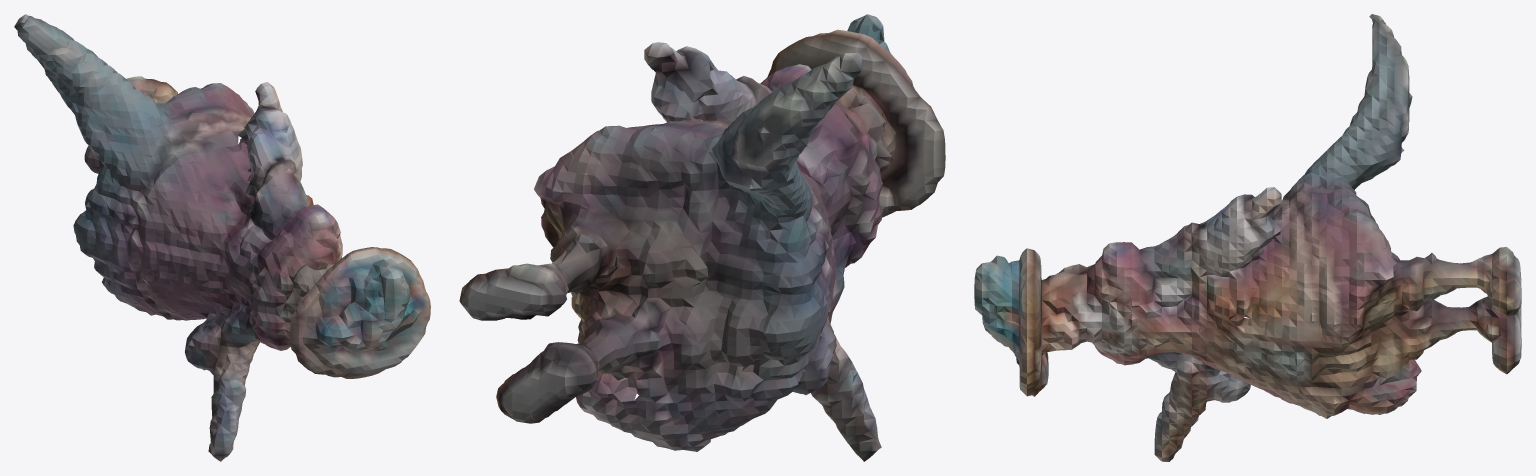
The model's file is renais_scholar_f_0.glb.
3 renders of one model, left to right at view 1: azimuth 30°, elevation 25°; view 2: azimuth 150°, elevation 25°; view 3: azimuth 270°, elevation 25°, orthographic. The views are drawn at different scales.
Parts seen in each view (by area): view 1: world; view 2: world; view 3: world.
Part boxes in pixels (x1,y1,x2,y2): world: [14, 14, 430, 461]; world: [459, 14, 945, 461]; world: [974, 14, 1521, 461].
Bounding box in the file's own units: 0.5279 × 0.809 × 0.9994.
